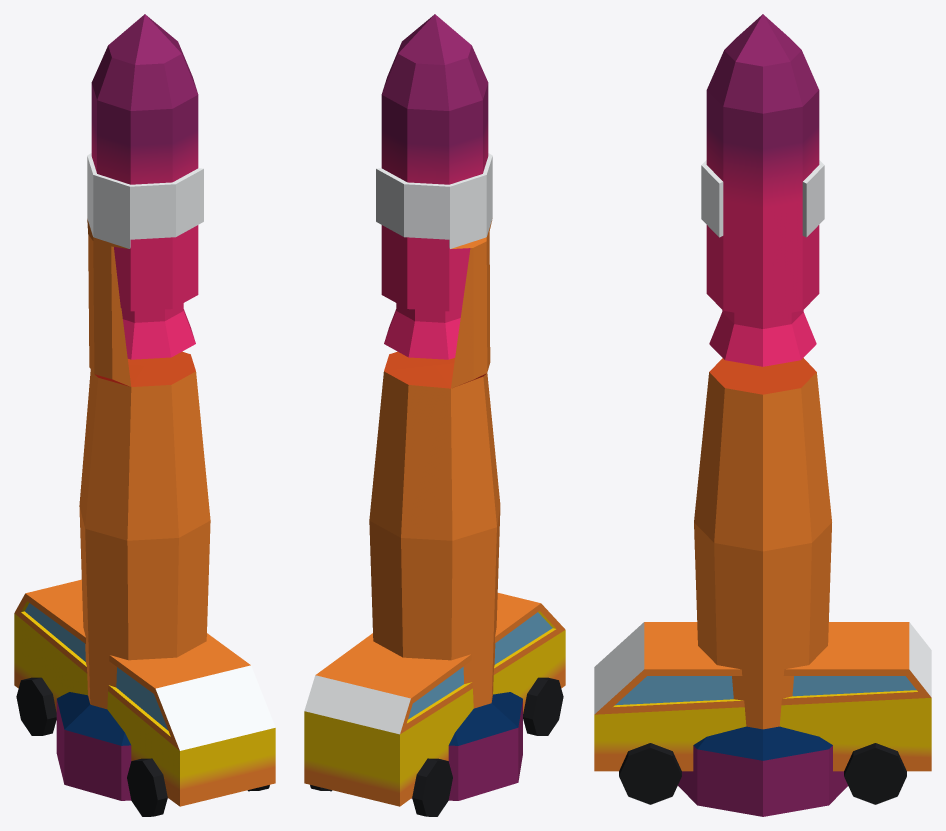
Rendered from motion1D.glb.
3 renders of one model, left to right at view 1: azimuth 30°, elevation 25°; view 2: azimuth 150°, elevation 25°; view 3: azimuth 270°, elevation 25°, orthographic.
Parts seen in each view (by area): view 1: stand, body1, body2; view 2: stand, body1, body2; view 3: stand, body1, body2.
Boxes of the visible parts, x1,y1,x2,y2 form: stand: (56, 153, 210, 800); body1: (14, 579, 275, 816); body2: (91, 14, 198, 359); stand: (369, 153, 522, 800); body1: (304, 593, 565, 816); body2: (381, 14, 488, 359); stand: (678, 160, 847, 816); body1: (594, 622, 931, 804); body2: (706, 14, 819, 366).
Size of the model in its own units: 3.37 by 14.98 by 6.
Materials: 1 (1 with a texture image).
